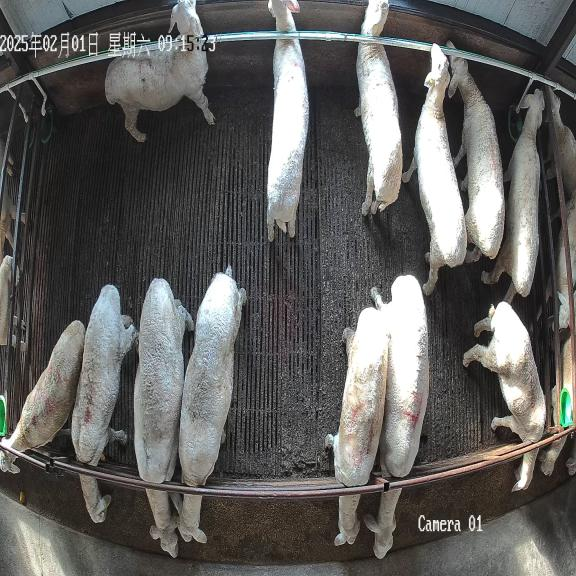eating: (178, 266, 246, 543), (363, 275, 429, 558), (134, 278, 194, 557), (324, 307, 391, 546), (71, 285, 138, 523), (463, 301, 546, 491)
stand: (403, 43, 467, 295), (105, 0, 215, 142), (481, 90, 544, 304), (446, 40, 505, 262), (0, 320, 85, 474), (354, 0, 402, 215), (267, 0, 309, 241)
